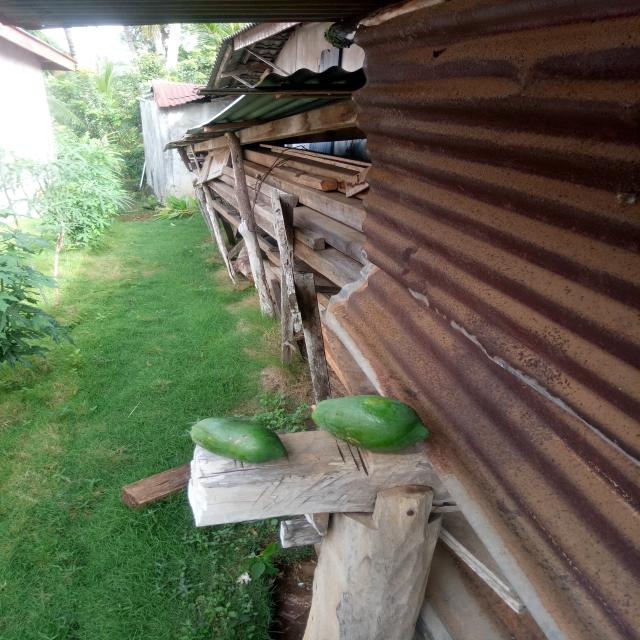Pepaya unrippen: (298, 389, 430, 454), (167, 408, 290, 466)
